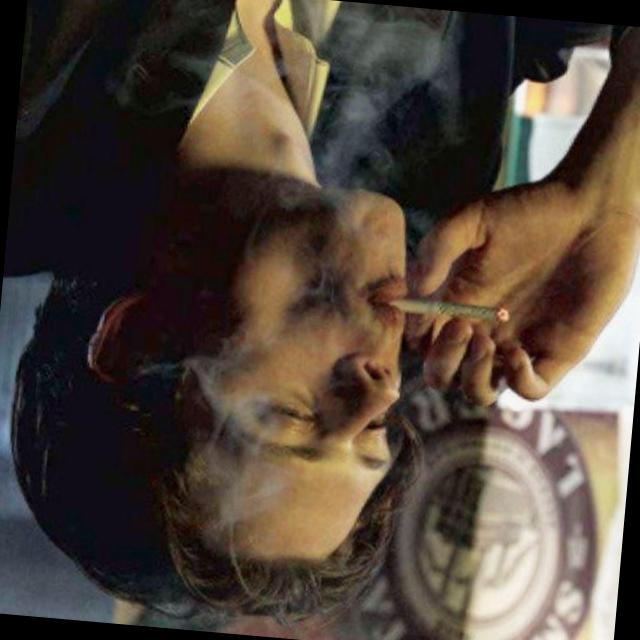smoke: (371, 273, 530, 336)
